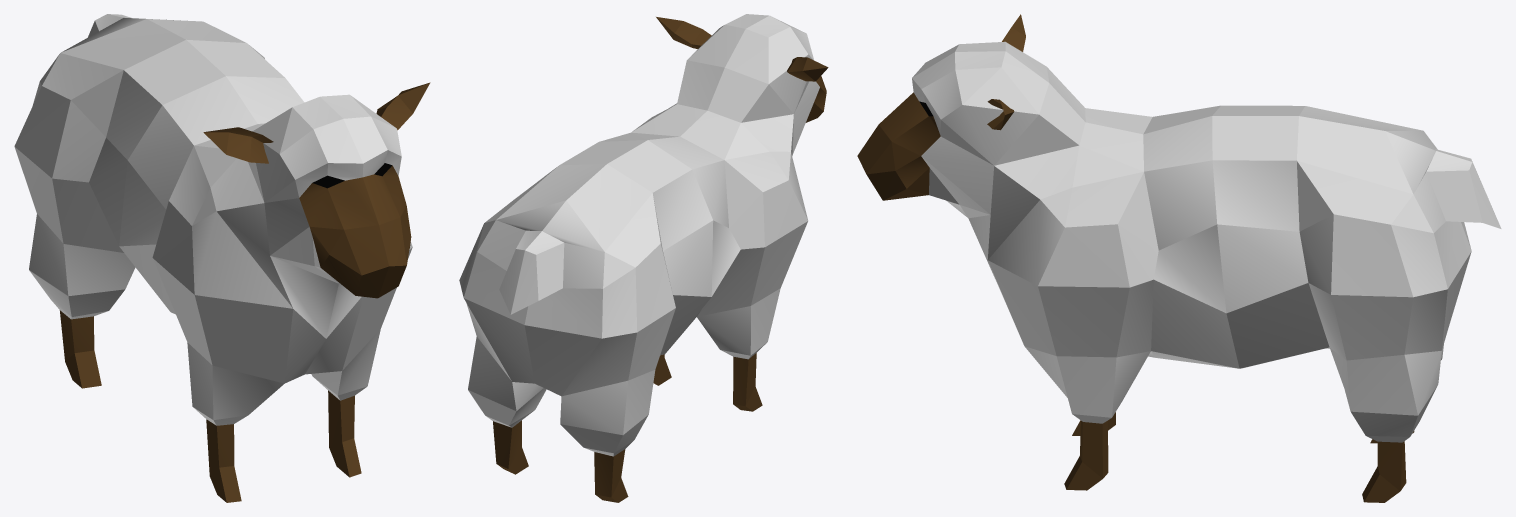
File: sheep.glb
3 renders of one model, left to right at view 1: azimuth 30°, elevation 25°; view 2: azimuth 150°, elevation 25°; view 3: azimuth 270°, elevation 25°, orthographic. The views are drawn at different scales.
Visible parts, largest first — view 1: sheep-Mat, sheep-Material.011; view 2: sheep-Mat, sheep-Material.011; view 3: sheep-Mat, sheep-Material.011.
Boxes of the visible parts, x1,y1,x2,y2 form: sheep-Mat: (14,14,412,425); sheep-Material.011: (59,82,430,502); sheep-Mat: (459,14,819,456); sheep-Material.011: (493,17,828,502); sheep-Mat: (912,41,1501,442); sheep-Material.011: (857,14,1414,502).
Bounding box in the file's own units: 88.87 × 144 × 207.
